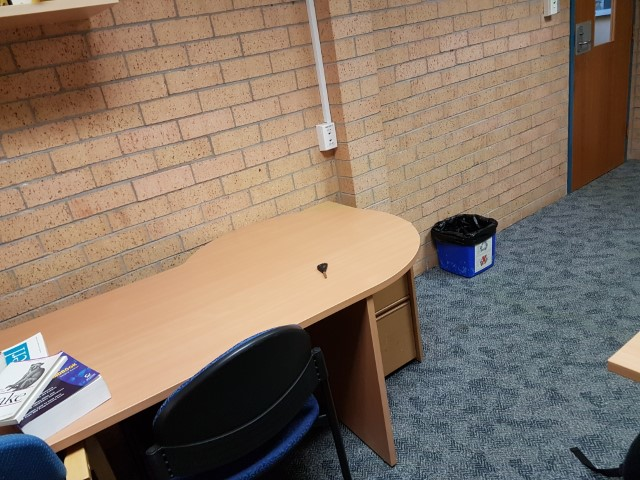key: (317, 263, 330, 280)
